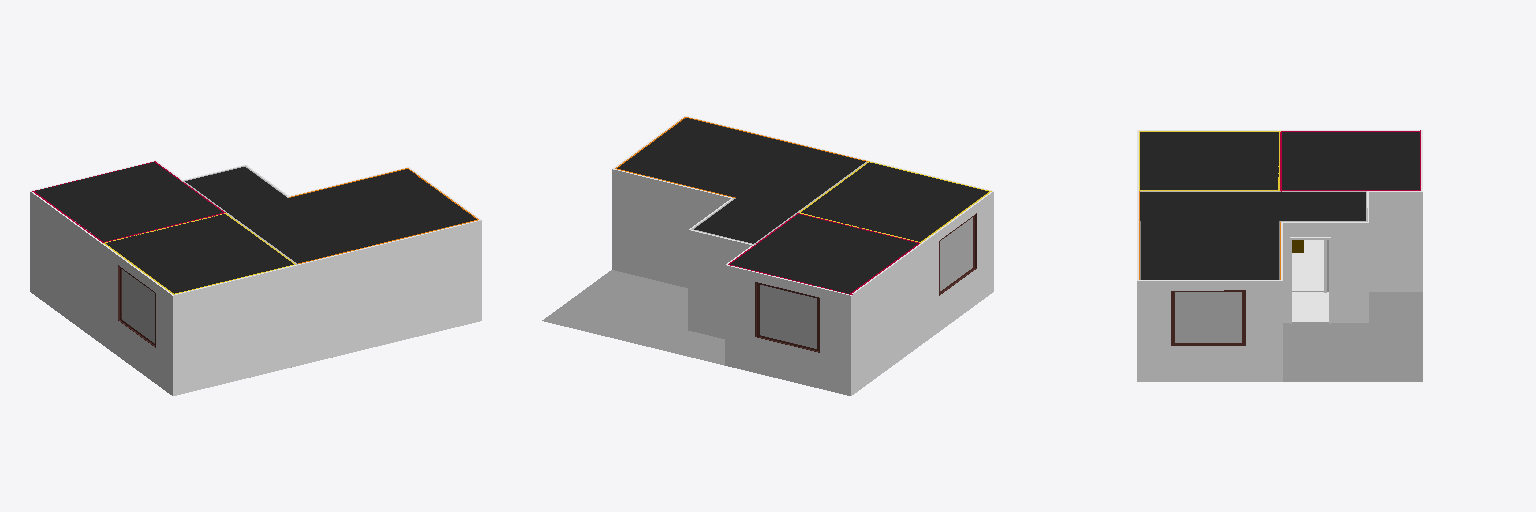
File: house.obj
3 views of the same model, side by side, from view 1: azimuth 30°, elevation 25°; view 2: azimuth 150°, elevation 25°; view 3: azimuth 270°, elevation 25° (orthographic).
Visible parts, largest first — view 1: wall_8_47, wall_5_29, room_15_87, room_18_93, room_16_89, wall_1_5, room_17_91, wall_4_23, sweethome3d_window_pane_396; view 2: wall_3_17, wall_10_59, ground_1, room_18_93, room_16_89, room_15_87, wall_1_5, room_17_91, wall_4_23, wall_11_64, sweethome3d_window_pane_148, sweethome3d_window_pane_396; view 3: wall_9_53, ground_1, room_18_93, room_16_89, room_15_87, room_17_91, wall_14_83, wall_12_70, sweethome3d_window_pane_399, room_15_86, room_17_90, Fenetre_1_398.
Boxes of the visible parts, x1,y1,x2,y2 form: wall_8_47: [298, 220, 481, 365]; wall_5_29: [173, 265, 298, 395]; room_15_87: [35, 162, 222, 241]; room_18_93: [288, 169, 476, 248]; room_16_89: [106, 214, 293, 293]; wall_1_5: [30, 192, 101, 343]; room_17_91: [185, 167, 356, 263]; wall_4_23: [102, 244, 172, 395]; sweethome3d_window_pane_396: [122, 269, 154, 342]; wall_3_17: [725, 265, 850, 395]; wall_10_59: [612, 169, 730, 287]; ground_1: [542, 270, 724, 365]; room_18_93: [617, 118, 804, 197]; room_16_89: [801, 162, 988, 241]; room_15_87: [730, 214, 917, 293]; wall_1_5: [851, 243, 923, 395]; room_17_91: [694, 147, 865, 243]; wall_4_23: [924, 192, 993, 342]; wall_11_64: [688, 230, 751, 338]; sweethome3d_window_pane_148: [760, 285, 816, 348]; sweethome3d_window_pane_396: [940, 217, 972, 290]; wall_9_53: [1137, 281, 1282, 381]; ground_1: [1283, 291, 1422, 381]; room_18_93: [1141, 221, 1278, 279]; room_16_89: [1140, 132, 1278, 189]; room_15_87: [1282, 132, 1419, 189]; room_17_91: [1140, 192, 1365, 220]; wall_14_83: [1369, 192, 1422, 291]; wall_12_70: [1283, 223, 1368, 322]; sweethome3d_window_pane_399: [1175, 292, 1241, 342]; room_15_86: [1292, 240, 1323, 290]; room_17_90: [1292, 292, 1328, 321]; Fenetre_1_398: [1172, 291, 1244, 344].
Bounding box in the file's own units: 784 × 244 × 628.